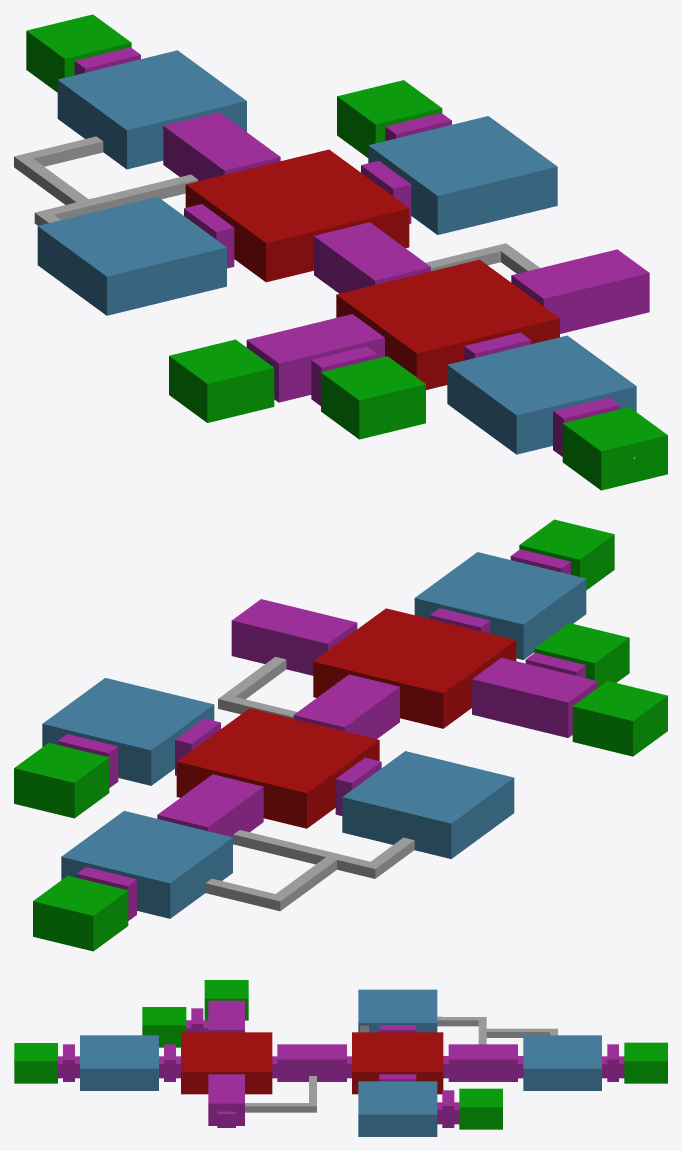
Rendered from blocking9.fbx.
The picture shows the model from 3 angles, top to bottom: view 1: azimuth 30°, elevation 25°; view 2: azimuth 150°, elevation 25°; view 3: azimuth 270°, elevation 25°; orthographic projection. The views are drawn at different scales.
Parts seen in each view (by area): view 1: pCube7, pCube19, pCube15, pCube18, pCube20, pCube4, polySurface83, pCube14, pCube12, pCube13, polySurface81, polySurface79 (+14 smaller); view 2: pCube7, pCube15, pCube19, pCube4, pCube20, pCube18, polySurface81, polySurface83, pCube21, pCube5, pCube14, polySurface79 (+17 smaller); view 3: pCube15, pCube7, pCube18, pCube4, pCube20, pCube19, polySurface75, polySurface79, polySurface83, pCube5, pCube21, pCube12 (+14 smaller).
Boxes of the visible parts, left/top/right/bottom form: pCube7: left=185, top=149, right=409, bottom=282; pCube19: left=37, top=196, right=226, bottom=315; pCube15: left=336, top=259, right=559, bottom=389; pCube18: left=368, top=116, right=557, bottom=234; pCube20: left=447, top=335, right=636, bottom=454; pCube4: left=57, top=50, right=246, bottom=169; polySurface83: left=511, top=249, right=649, bottom=333; pCube14: left=169, top=339, right=274, bottom=422; pCube12: left=562, top=407, right=667, bottom=490; pCube13: left=321, top=356, right=425, bottom=439; polySurface81: left=246, top=314, right=384, bottom=402; polySurface79: left=314, top=222, right=430, bottom=293; pCube7: left=176, top=708, right=379, bottom=828; pCube15: left=313, top=608, right=516, bottom=728; pCube19: left=342, top=751, right=514, bottom=858; pCube4: left=61, top=811, right=232, bottom=918; pCube20: left=414, top=552, right=586, bottom=659; pCube18: left=42, top=678, right=214, bottom=785; polySurface81: left=472, top=657, right=597, bottom=737; polySurface83: left=231, top=599, right=357, bottom=675; pCube21: left=33, top=875, right=128, bottom=951; pCube5: left=14, top=742, right=109, bottom=818; pCube14: left=572, top=681, right=667, bottom=756; polySurface79: left=293, top=674, right=399, bottom=738; pCube15: left=181, top=1032, right=272, bottom=1094; pCube7: left=352, top=1032, right=443, bottom=1094; pCube18: left=358, top=1081, right=437, bottom=1136; pCube4: left=523, top=1035, right=601, bottom=1090; pCube20: left=80, top=1035, right=158, bottom=1090; pCube19: left=358, top=989, right=437, bottom=1032; polySurface75: left=443, top=1044, right=523, bottom=1081; polySurface79: left=272, top=1044, right=351, bottom=1081; polySurface83: left=208, top=1074, right=244, bottom=1127; pCube5: left=459, top=1088, right=502, bottom=1129; pCube21: left=624, top=1042, right=667, bottom=1083; pCube12: left=14, top=1043, right=57, bottom=1083.
Size of the model in its own units: 6742 by 529 by 13837.
